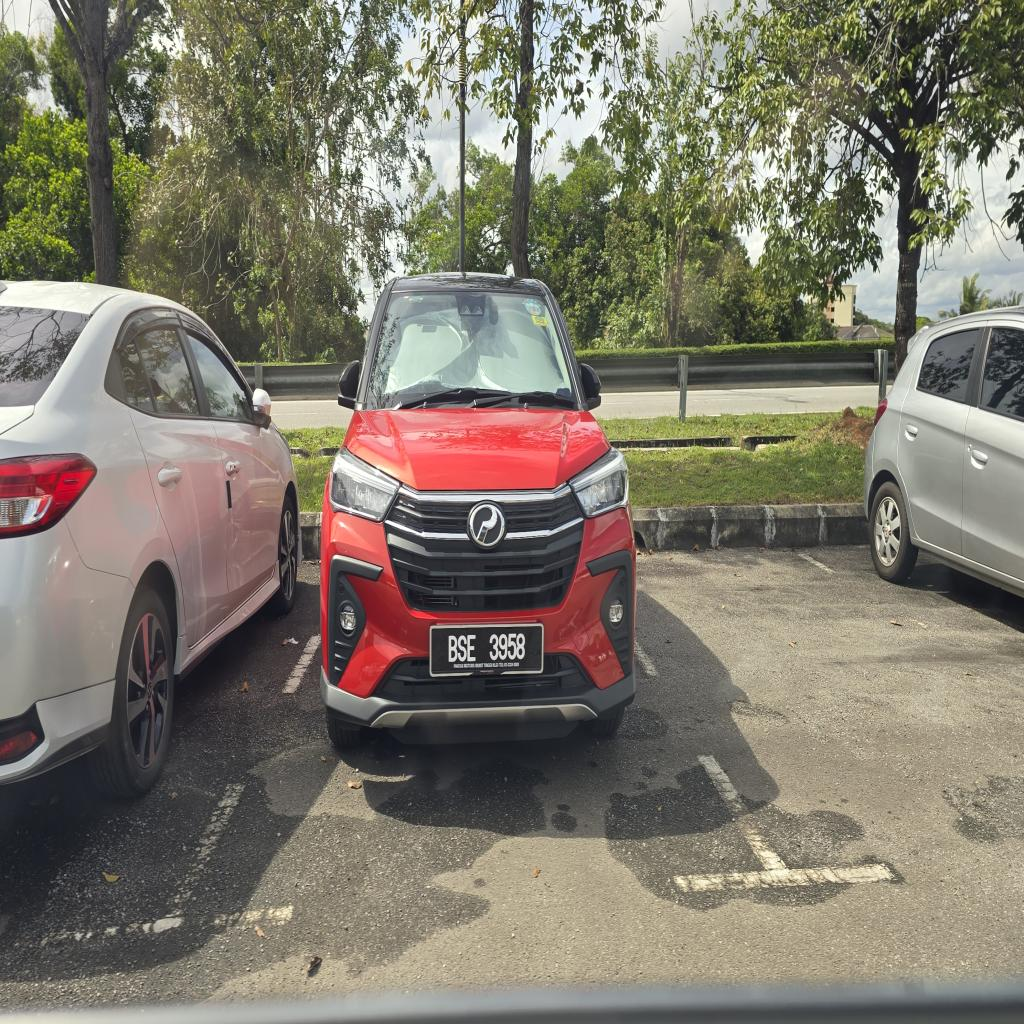car: (322, 275, 635, 748)
car plate: (430, 624, 543, 676)
